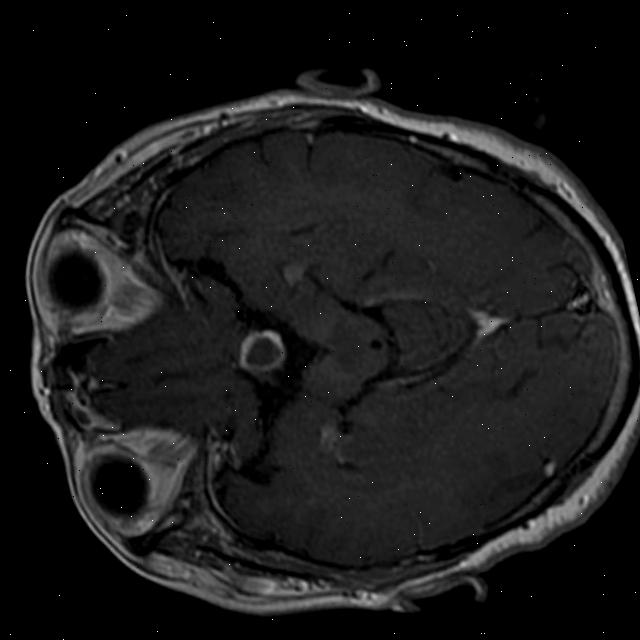Pituitary: (230, 321, 291, 379)
